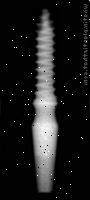Hiossen: (31, 7, 59, 192)
